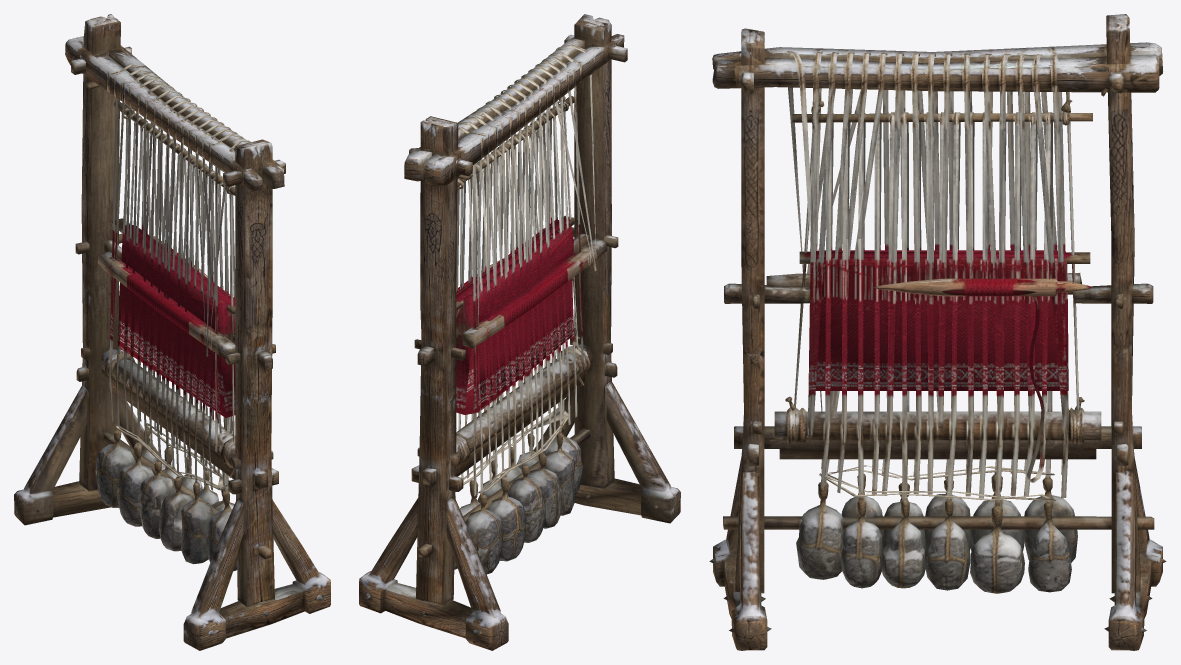
The model's file is SM_Env_HeorotWarpLoom.fbx.
3 renders of one model, left to right at view 1: azimuth 30°, elevation 25°; view 2: azimuth 150°, elevation 25°; view 3: azimuth 270°, elevation 25°, orthographic. The views are drawn at different scales.
Parts seen in each view (by area): view 1: SM_Env_HeorotWarpLoom; view 2: SM_Env_HeorotWarpLoom; view 3: SM_Env_HeorotWarpLoom.
Part boxes in pixels (bbox=[...]): SM_Env_HeorotWarpLoom: bbox=[14, 14, 330, 650]; SM_Env_HeorotWarpLoom: bbox=[359, 14, 680, 650]; SM_Env_HeorotWarpLoom: bbox=[709, 14, 1166, 650].
Size of the model in its own units: 18.67 by 42 by 60.
Materials: 1 (1 with a texture image).
